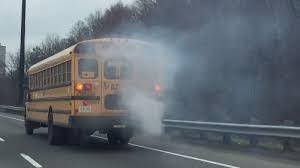smoke: (137, 46, 170, 82), (139, 95, 166, 132)
